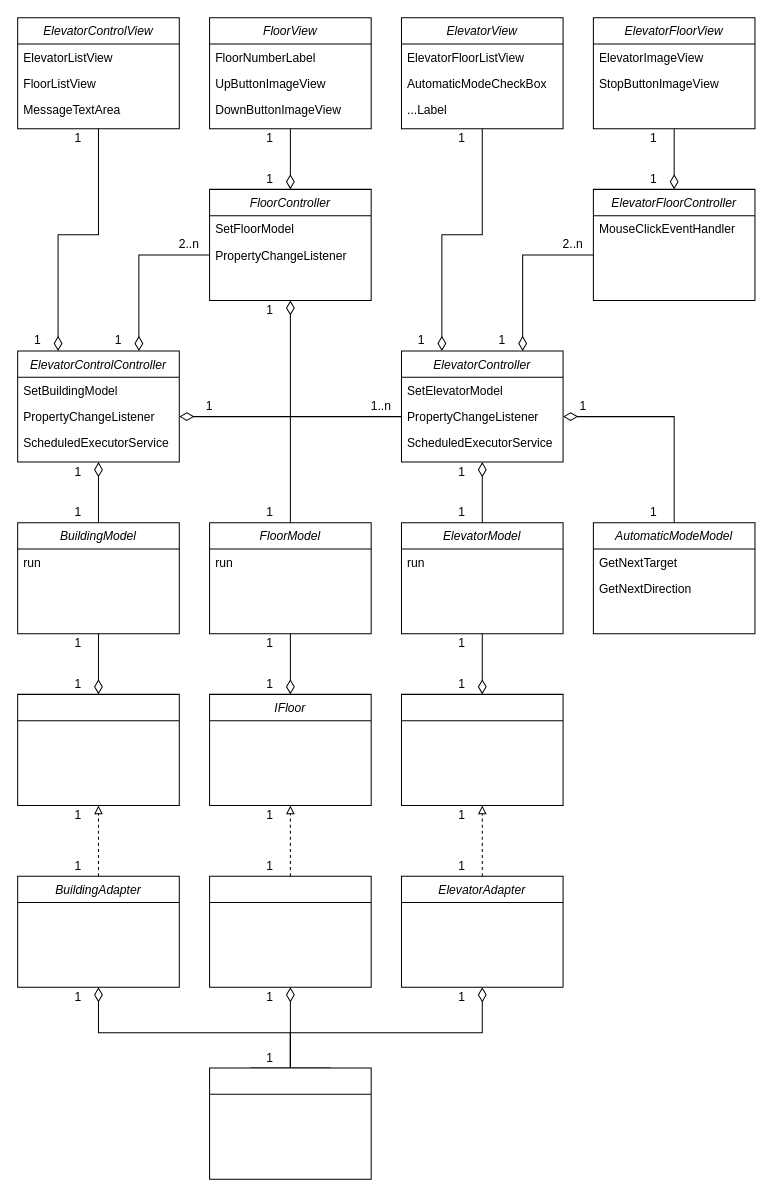
The diagram is 773 pixels wide and 1197 high, and some of its shapes have lost their labels. Each missing label, with the centre of its shape:
FloorAdapter: the point at 290,931
IBuilding: the point at 98,749
IElevator: the point at 290,1123
IElevatorControl: the point at 481,749
